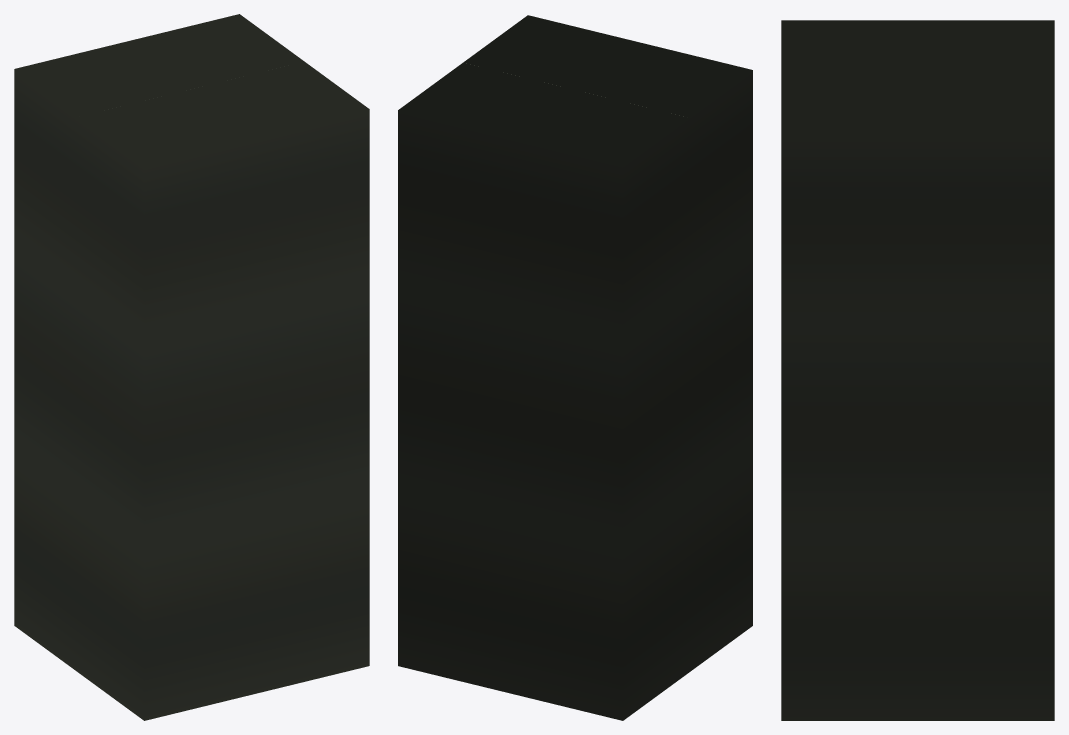
The model's file is env_watchtower_metal_a.glb.
3 renders of one model, left to right at view 1: azimuth 30°, elevation 25°; view 2: azimuth 150°, elevation 25°; view 3: azimuth 270°, elevation 25°, orthographic. The views are drawn at different scales.
Parts seen in each view (by area): view 1: env_watchtower_metal_a; view 2: env_watchtower_metal_a; view 3: env_watchtower_metal_a.
Boxes of the visible parts, left/top/right/bottom form: env_watchtower_metal_a: left=14, top=14, right=369, bottom=720; env_watchtower_metal_a: left=398, top=15, right=752, bottom=720; env_watchtower_metal_a: left=781, top=20, right=1054, bottom=720.
Bounding box in the file's own units: 3.6 × 8.8 × 3.6.
Materials: 1 (1 with a texture image).
